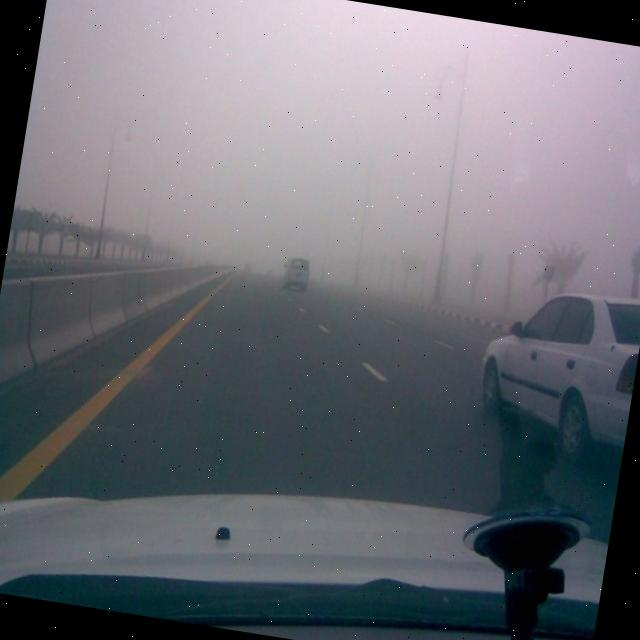car: (470, 276, 640, 472), (280, 252, 312, 292)
